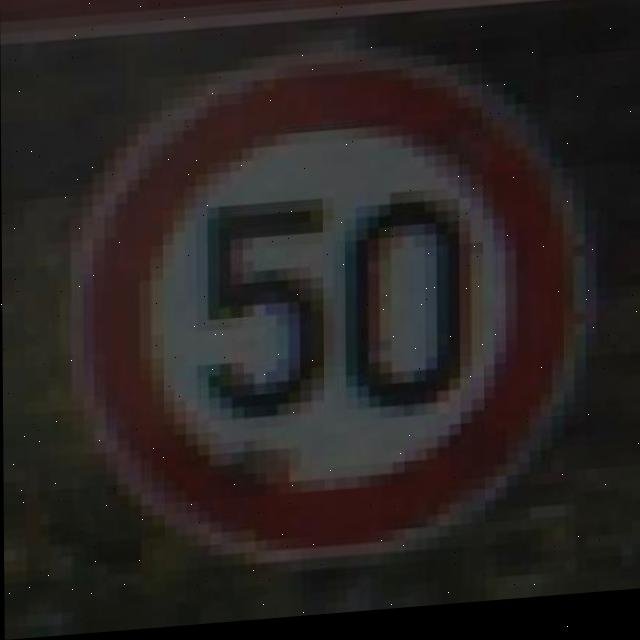Speed limit 50: (68, 41, 589, 583)
